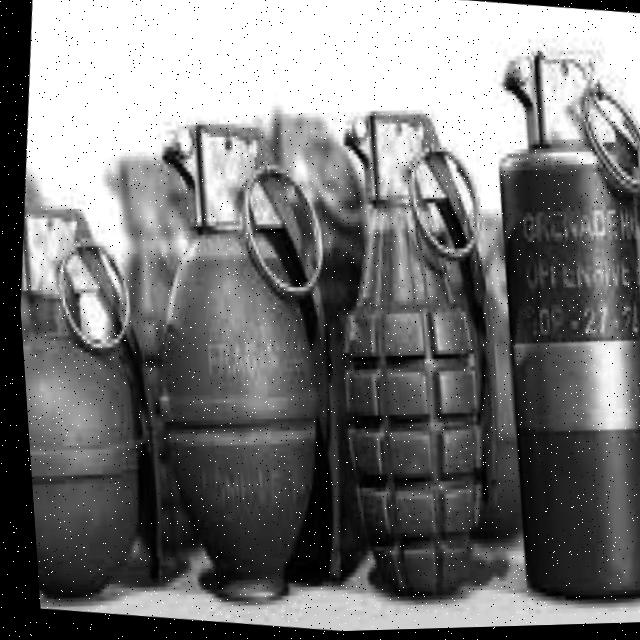grenade: (86, 92, 396, 630), (274, 76, 553, 583), (427, 33, 640, 620), (10, 179, 187, 614)
